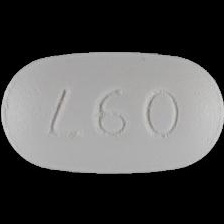50090-1296: (0, 0, 224, 224)
